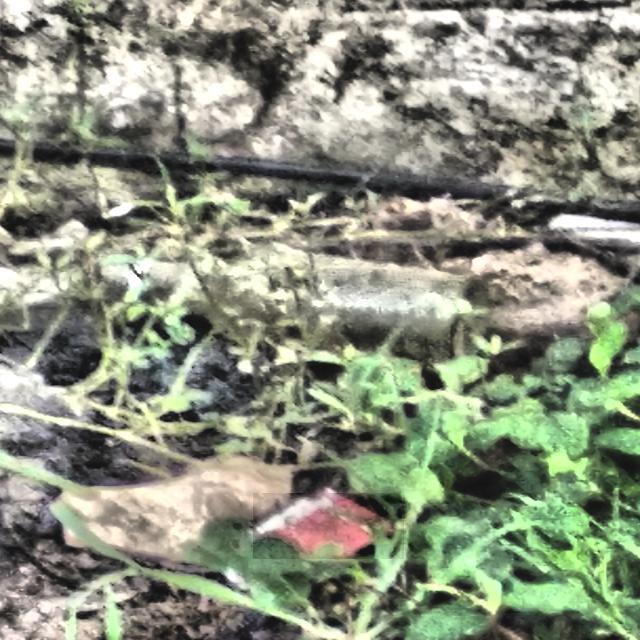anorganik: (254, 493, 403, 559)
